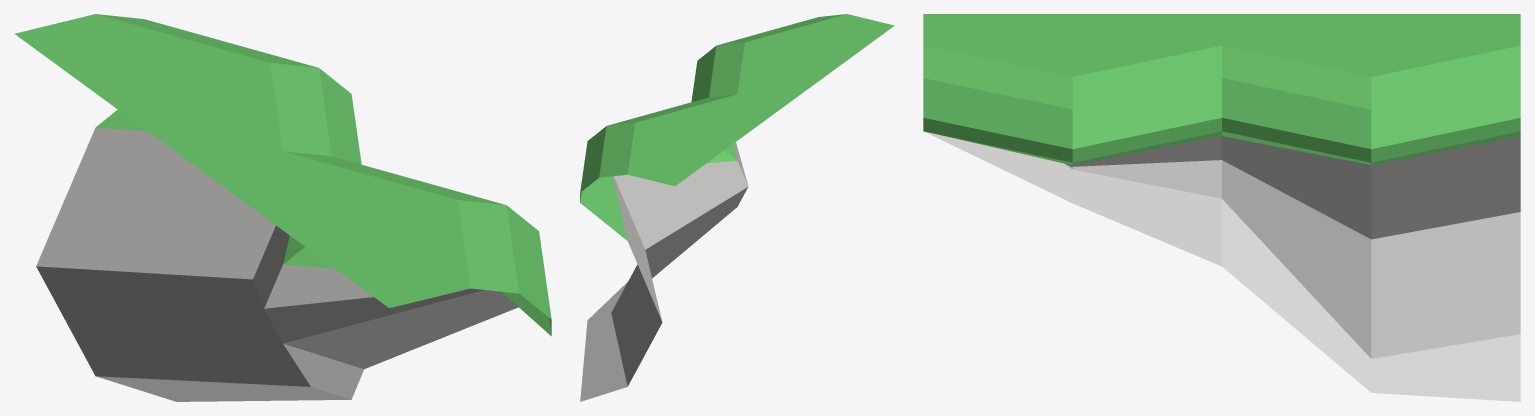
File: Cliff_Terrain_Hill_Base_Top_Joined_Sharp.glb
The picture shows the model from 3 angles, left to right: view 1: azimuth 30°, elevation 25°; view 2: azimuth 150°, elevation 25°; view 3: azimuth 270°, elevation 25°; orthographic projection. The views are drawn at different scales.
Visible parts, largest first — view 1: Cliff_Terrain_Hill_Base_Top_Joined_Sharp; view 2: Cliff_Terrain_Hill_Base_Top_Joined_Sharp; view 3: Cliff_Terrain_Hill_Base_Top_Joined_Sharp.
Part boxes in pixels (x1,y1,x2,y2): Cliff_Terrain_Hill_Base_Top_Joined_Sharp: (14, 14, 551, 401); Cliff_Terrain_Hill_Base_Top_Joined_Sharp: (580, 14, 894, 401); Cliff_Terrain_Hill_Base_Top_Joined_Sharp: (923, 14, 1520, 401).
Bounding box in the file's own units: 0.252 × 0.4032 × 0.672.
